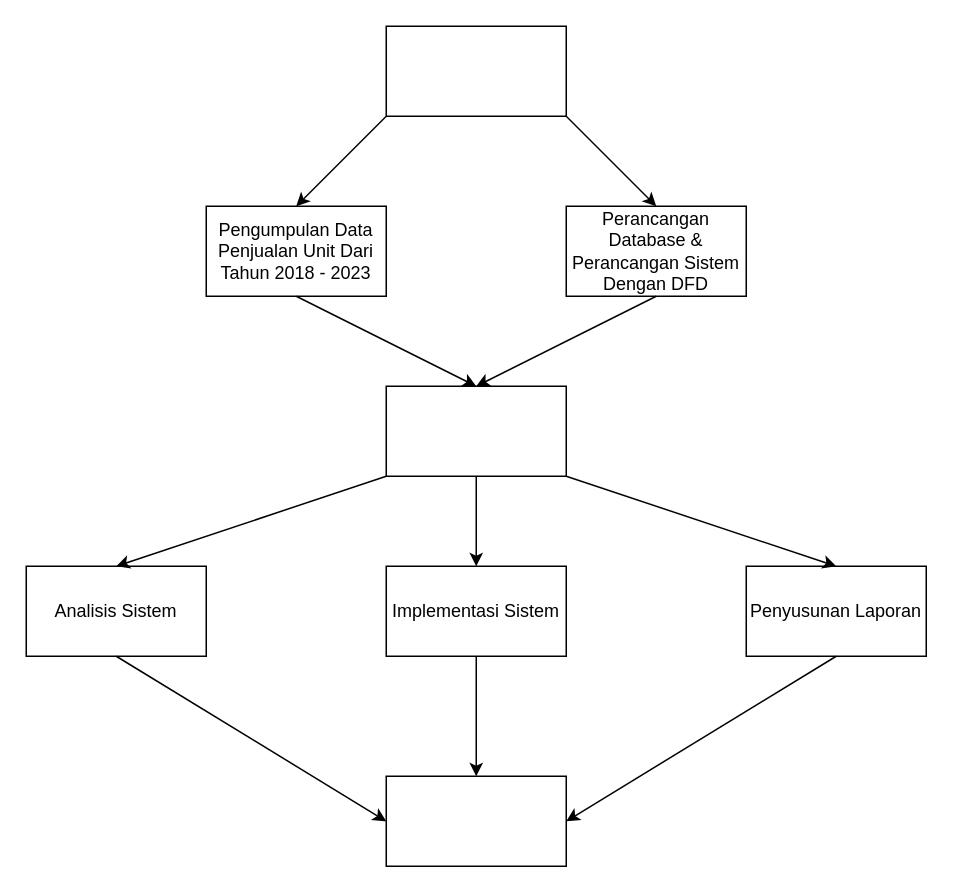
Some shapes in this 953 by 893 pixel diagram are drawn without their labels. The centre of each missing label's shape, as x and y in pixels:
"Identifikasi Masalah & Studi literatur" belongs at pixel 475 70.
"Kesimpulan" belongs at pixel 475 820.
"Perancangan Web" belongs at pixel 475 430.
